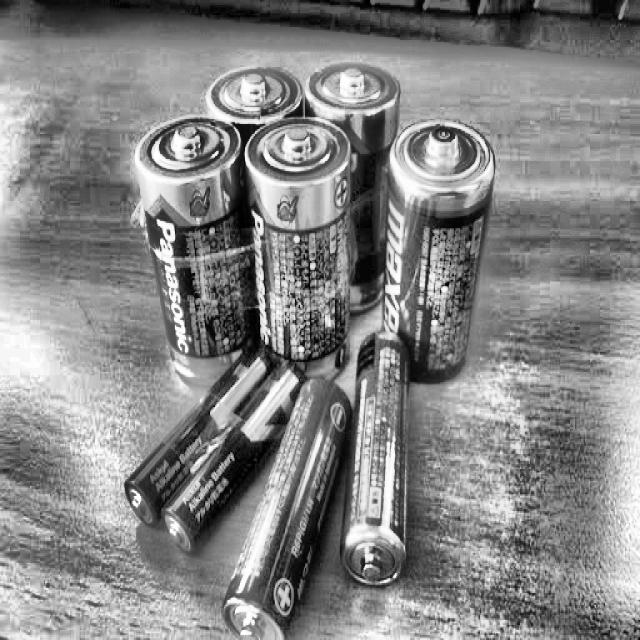drycell: (378, 117, 497, 388), (341, 324, 414, 594)
